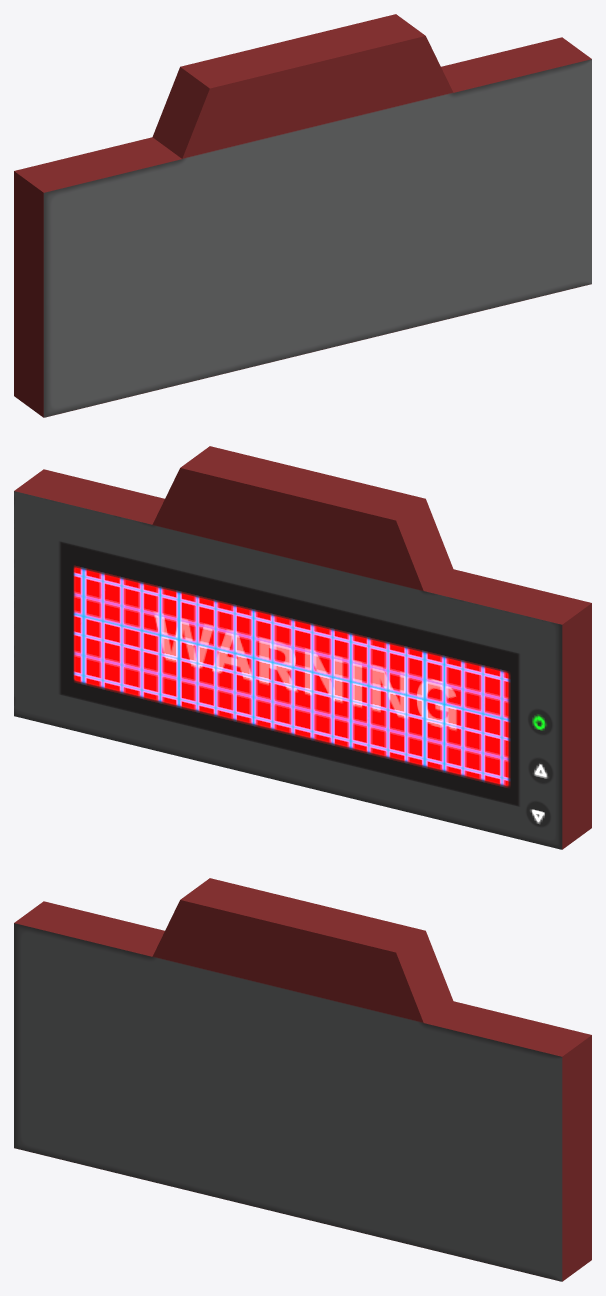
File: FUT0510025.fbx
3 renders of one model, top to bottom at view 1: azimuth 30°, elevation 25°; view 2: azimuth 150°, elevation 25°; view 3: azimuth 330°, elevation 25°, orthographic.
Visible parts, largest first — view 1: smFUT0510025; view 2: smFUT0510025; view 3: smFUT0510025.
Boxes of the visible parts, <box> form: smFUT0510025: <box>14,14,591,417</box>; smFUT0510025: <box>14,446,591,849</box>; smFUT0510025: <box>14,878,591,1281</box>.
Bounding box in the file's own units: 142 × 71.69 × 13.41.
